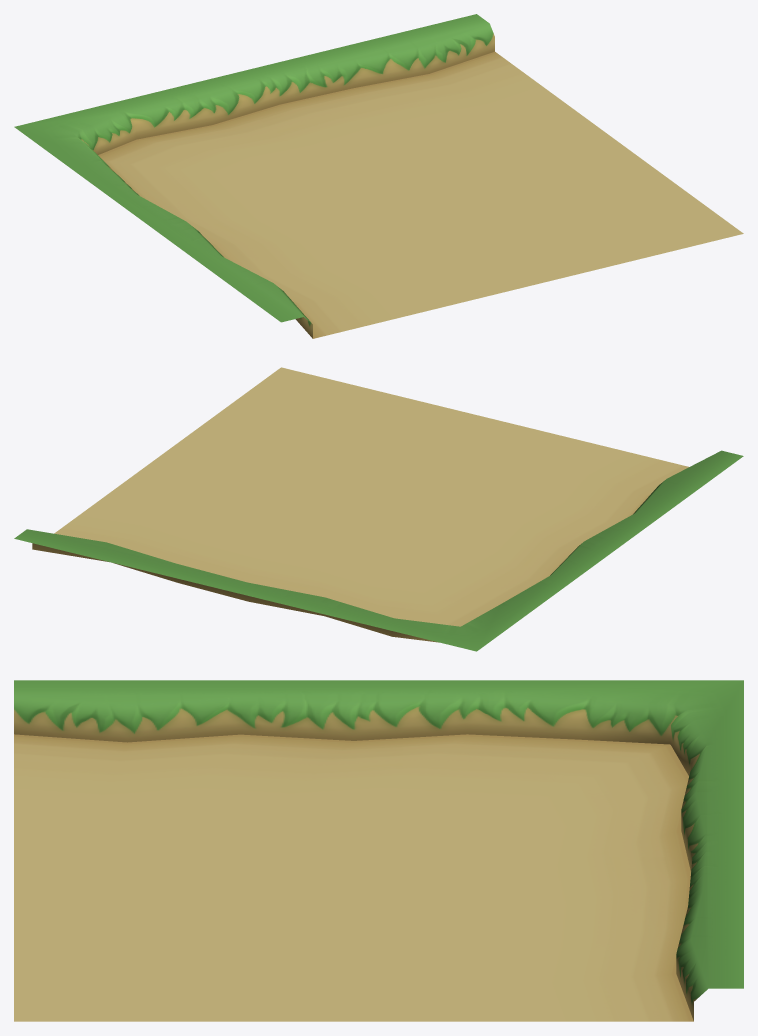
The model's file is Tile04.FBX.
3 views of the same model, one above another, from view 1: azimuth 30°, elevation 25°; view 2: azimuth 150°, elevation 25°; view 3: azimuth 270°, elevation 25° (orthographic). The views are drawn at different scales.
Parts seen in each view (by area): view 1: Tile04; view 2: Tile04; view 3: Tile04.
Boxes of the visible parts, bbox=[...] form: Tile04: bbox=[14, 14, 743, 338]; Tile04: bbox=[14, 367, 743, 651]; Tile04: bbox=[14, 680, 743, 1021].
Size of the model in its own units: 500 by 25 by 500.
